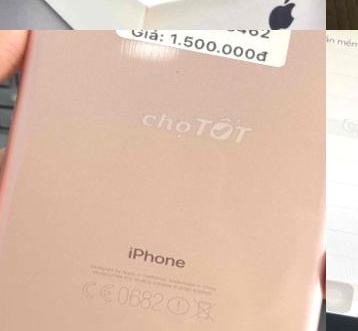scratch: (170, 57, 193, 83)
